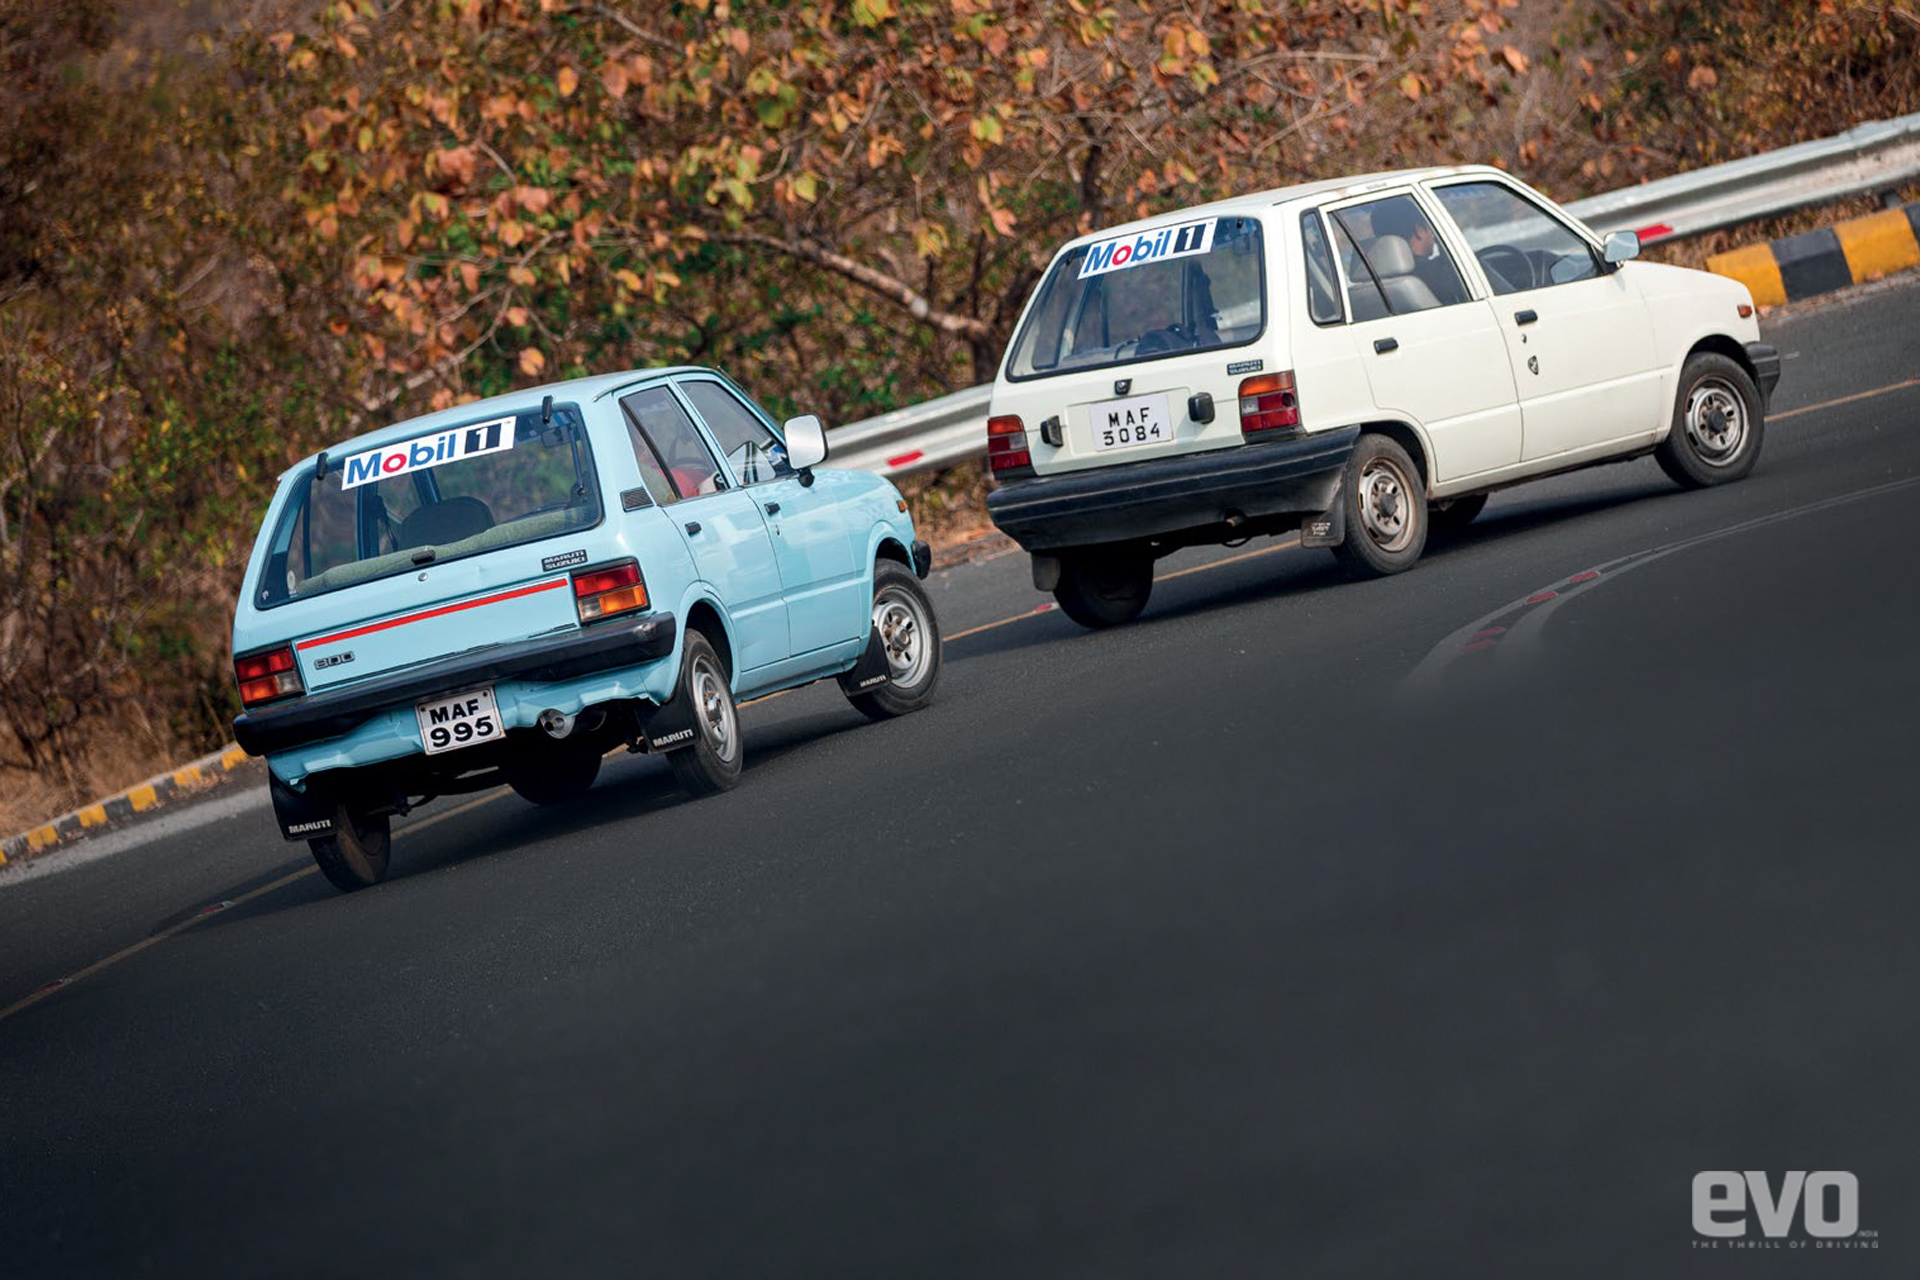number_plate: (410, 679, 519, 763), (1081, 393, 1186, 455)
